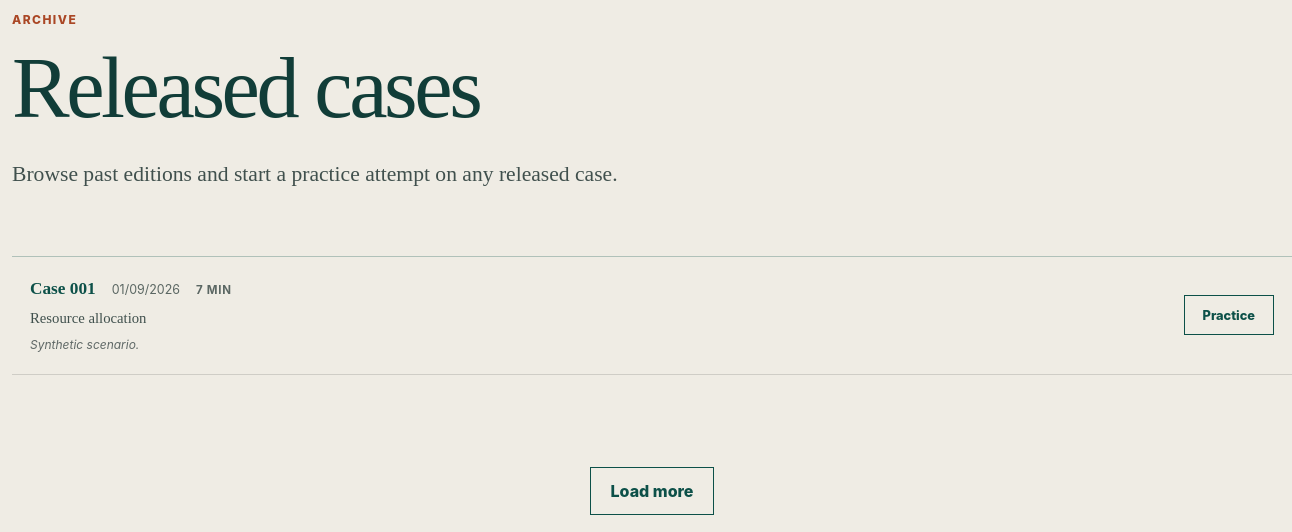
Test: CasesPage › loads more editions when paginated
Check: the text "Case 001" is shown, box x1=30 y1=279 x2=96 y2=299
Click the button "Load more" at (652, 491), box x1=590 y1=467 x2=714 y2=515
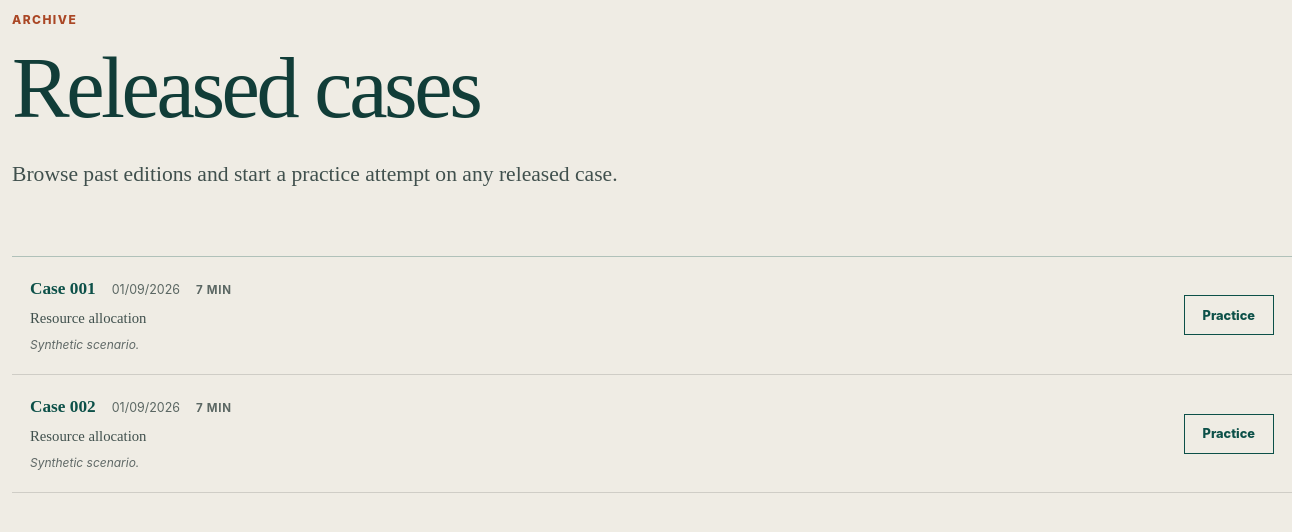
Check: the text "Case 001" is shown, box x1=30 y1=279 x2=96 y2=299
Check: the text "Case 002" is shown, box x1=30 y1=397 x2=96 y2=417
Check: the button "Load more" is gone
